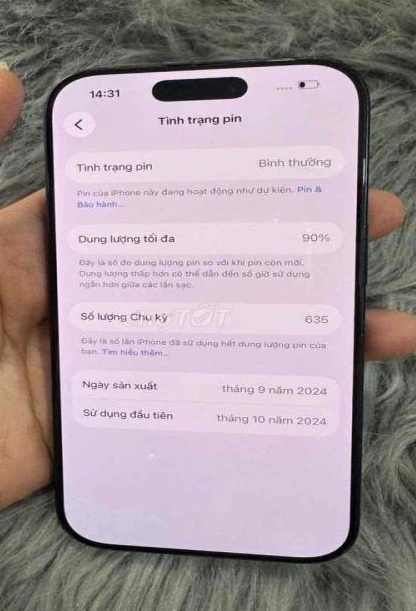scratch: (66, 46, 324, 81)
